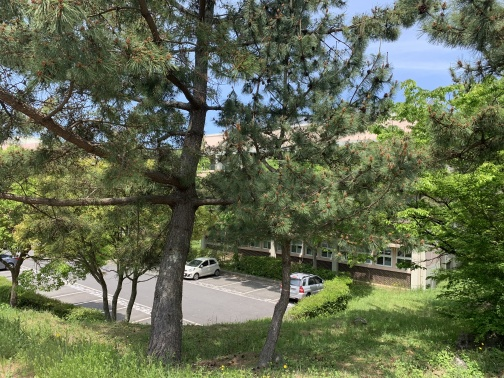College Of Education: (201, 122, 470, 299)
